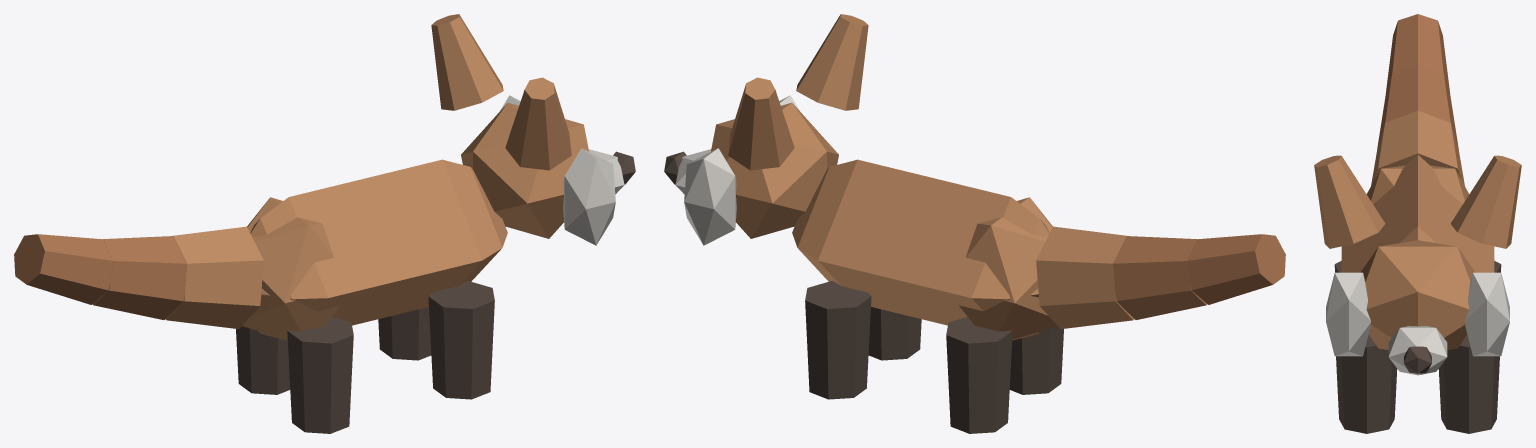
The picture shows the model from 3 angles, left to right: view 1: azimuth 30°, elevation 25°; view 2: azimuth 150°, elevation 25°; view 3: azimuth 270°, elevation 25°; orthographic projection. The views are drawn at different scales.
Parts seen in each view (by area): view 1: part0, part2, part11, part15, part1, part17, part12, part13, part7, part8, part6, part16 (+1 smaller); view 2: part0, part2, part11, part14, part1, part16, part12, part13, part8, part7, part5, part17 (+1 smaller); view 3: part2, part0, part14, part15, part7, part8, part11, part5, part6, part12, part13, part3 (+2 smaller).
Part boxes in pixels (box(x1,y1,x2,y2)): part0: box(250, 159, 507, 340); part2: box(461, 102, 588, 238); part11: box(165, 226, 263, 329); part15: box(428, 281, 494, 399); part1: box(242, 197, 340, 339); part17: box(287, 317, 353, 433); part12: box(92, 236, 186, 319); part13: box(14, 234, 112, 304); part7: box(431, 14, 503, 110); part8: box(505, 77, 571, 170); part6: box(563, 148, 615, 245); part16: box(236, 326, 290, 394); part0: box(792, 159, 1049, 340); part2: box(711, 102, 838, 238); part11: box(1036, 226, 1134, 329); part14: box(805, 281, 871, 399); part1: box(959, 197, 1057, 339); part16: box(946, 317, 1012, 433); part12: box(1113, 236, 1207, 319); part13: box(1187, 234, 1285, 304); part8: box(796, 14, 868, 110); part7: box(728, 77, 794, 170); part5: box(684, 148, 736, 245); part17: box(1009, 326, 1063, 394); part2: box(1360, 240, 1475, 349); part0: box(1341, 155, 1494, 272); part14: box(1438, 335, 1499, 433); part15: box(1336, 335, 1397, 433); part7: box(1450, 155, 1521, 248); part8: box(1314, 155, 1385, 248); part11: box(1371, 110, 1464, 185); part5: box(1465, 272, 1509, 356); part6: box(1326, 272, 1370, 356); part12: box(1377, 64, 1458, 150); part13: box(1385, 14, 1450, 93); part3: box(1388, 326, 1447, 375).
Size of the model in its own units: 4.51 by 2.15 by 1.38.
